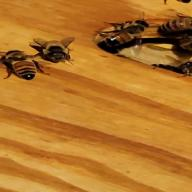Bee: (18, 33, 86, 70), (92, 17, 154, 57), (0, 42, 41, 83)
